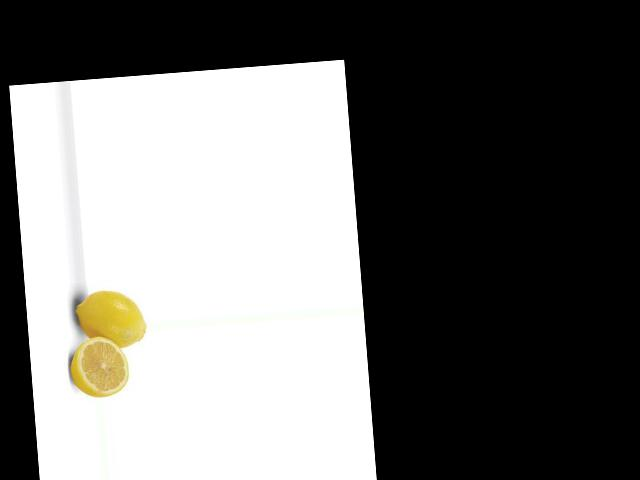lemon: (66, 285, 150, 356)
